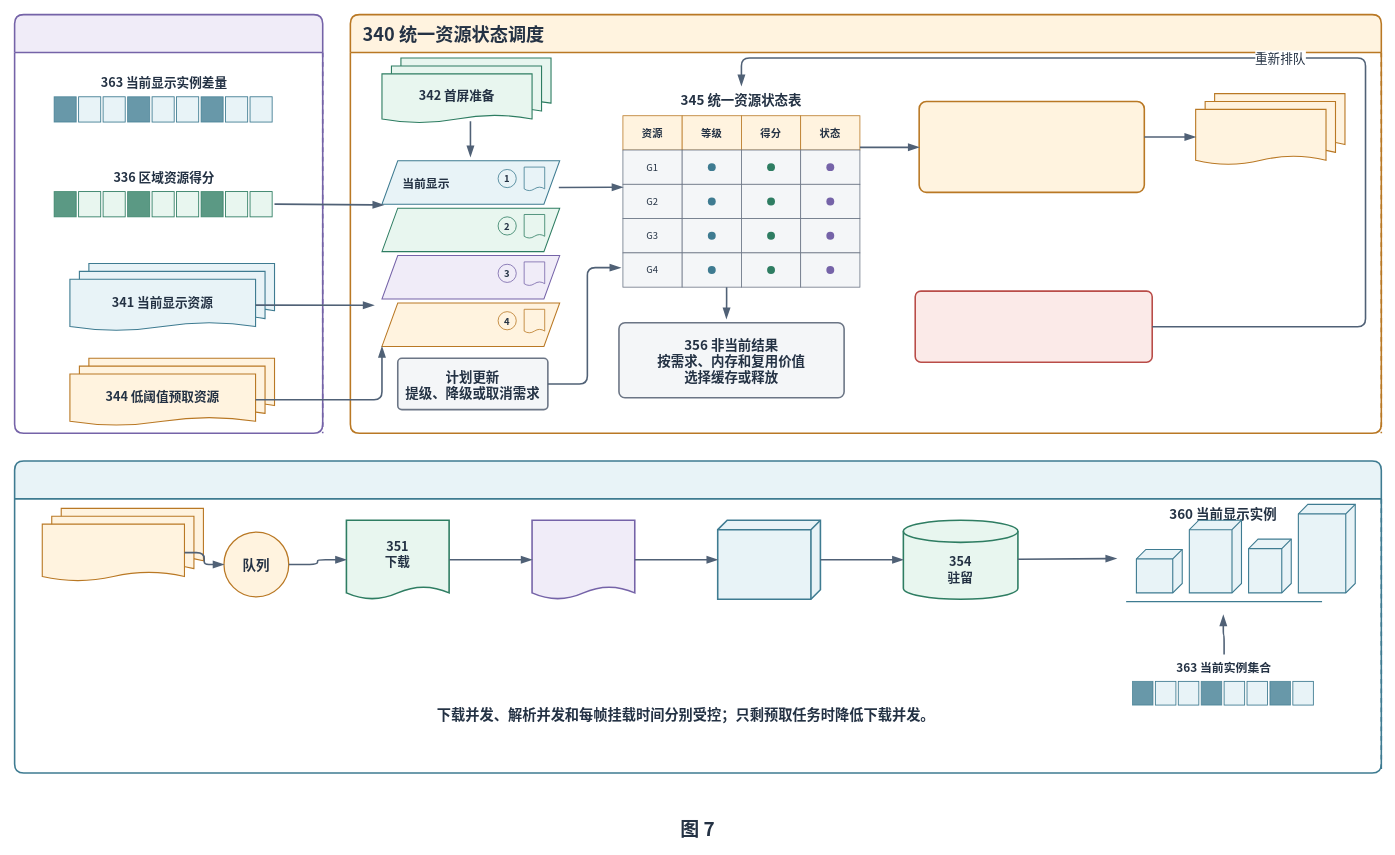
Some shapes in this 1395 by 855 pixel diagram are drawn without their labels. Here are the shapes that lost their labels. From the top down, the box of each, then its label:
(918, 100, 1145, 193): 346 任务选择 就绪时间、需求等级、得分、入队次序
(1195, 108, 1326, 165): 下一项资源任务
(13, 13, 323, 434): 335/336 同一次可见性查询的输出
(381, 207, 560, 252): 首屏准备
(381, 255, 560, 299): 区域候选
(381, 302, 560, 347): 低阈值预取
(914, 290, 1153, 363): 355 失败后有限重试 递增等待时间
(41, 523, 185, 581): 346 已选资源
(531, 519, 635, 600): 352 解析
(717, 519, 821, 600): 353 挂载
(13, 460, 1382, 773): 350 各资源独立推进的处理流水线
